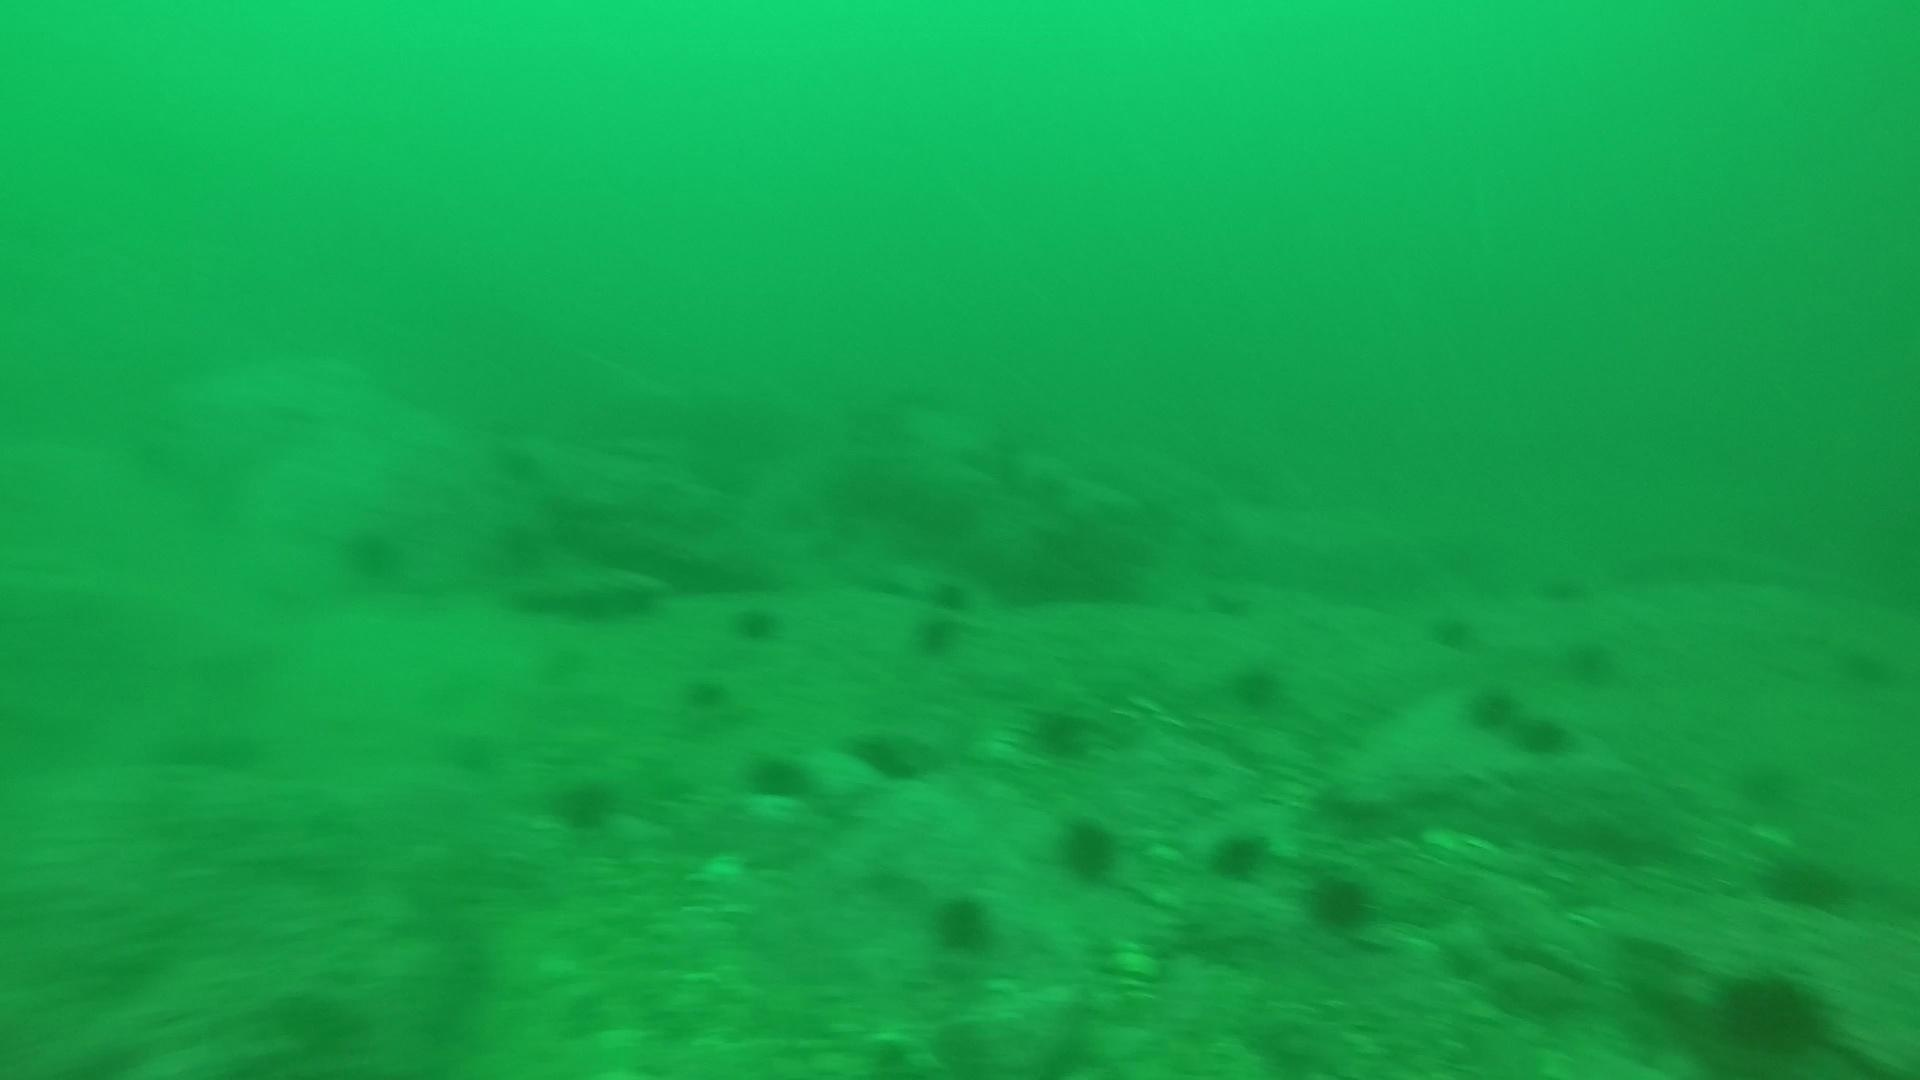echinus: (1712, 965, 1832, 1060), (1758, 847, 1854, 916), (1813, 636, 1909, 705), (1050, 811, 1127, 886), (1302, 865, 1381, 938), (481, 419, 555, 491), (924, 887, 1000, 957), (335, 518, 409, 588), (481, 501, 555, 571), (545, 770, 622, 836), (848, 724, 930, 786), (1021, 700, 1098, 765), (1204, 823, 1274, 886), (742, 746, 815, 806), (1727, 764, 1804, 816), (1222, 655, 1290, 715), (1560, 632, 1623, 690), (1511, 707, 1575, 762), (1462, 683, 1534, 732), (727, 599, 787, 647), (924, 576, 985, 622), (906, 615, 967, 659), (1543, 558, 1597, 607), (1423, 609, 1477, 657), (1208, 579, 1262, 626), (1106, 531, 1160, 579), (683, 673, 736, 717)
